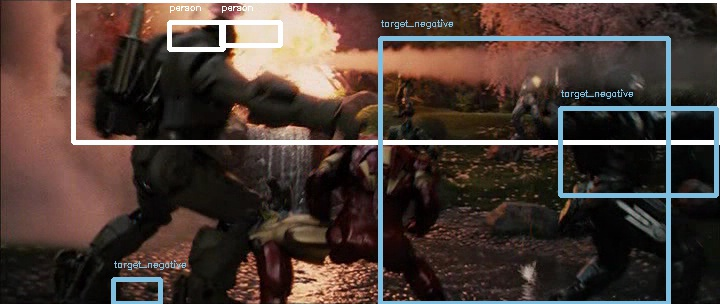person: (356, 125, 398, 162), (355, 125, 397, 162), (357, 125, 399, 162), (356, 124, 398, 161), (356, 126, 398, 163)
target_negative: (197, 205, 382, 262), (428, 261, 664, 283), (275, 160, 505, 171), (654, 160, 701, 167), (535, 215, 557, 221), (649, 186, 653, 205)
